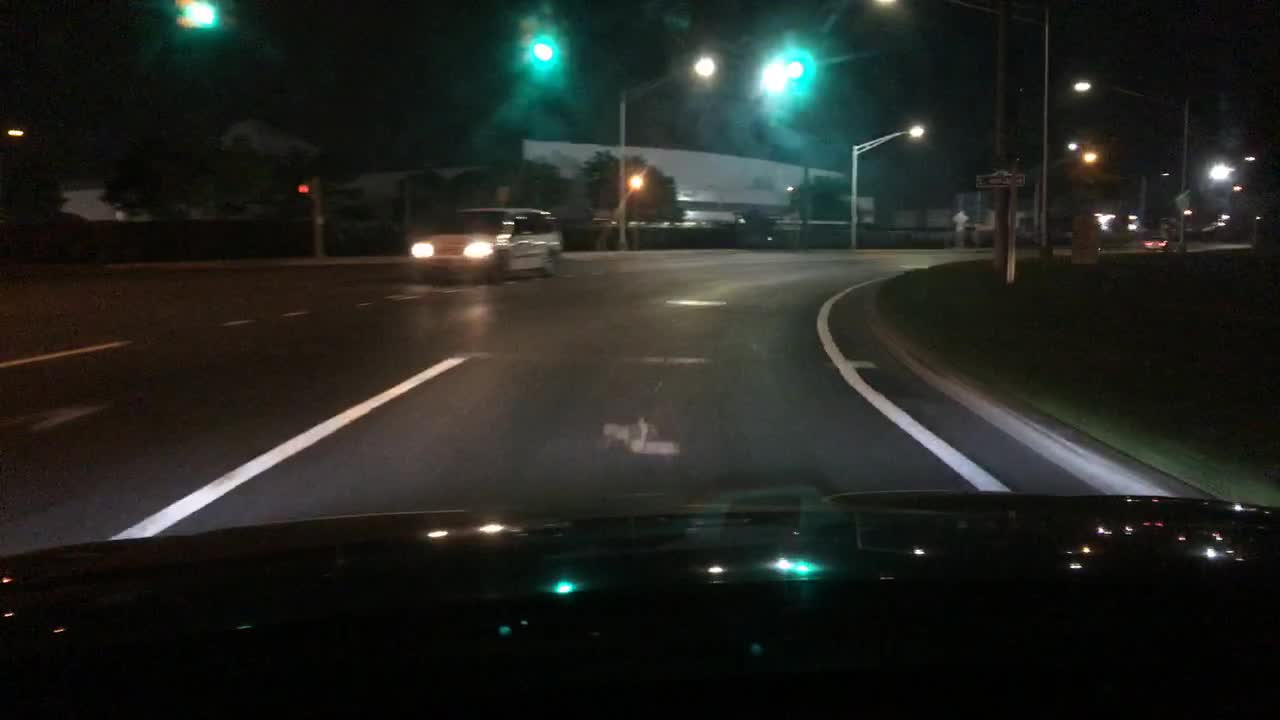car: (409, 207, 563, 282), (1144, 235, 1171, 252)
traffic light: (170, 1, 228, 29), (778, 53, 815, 88), (528, 34, 558, 69), (294, 184, 310, 193)
traffic sign: (976, 171, 1032, 188)
